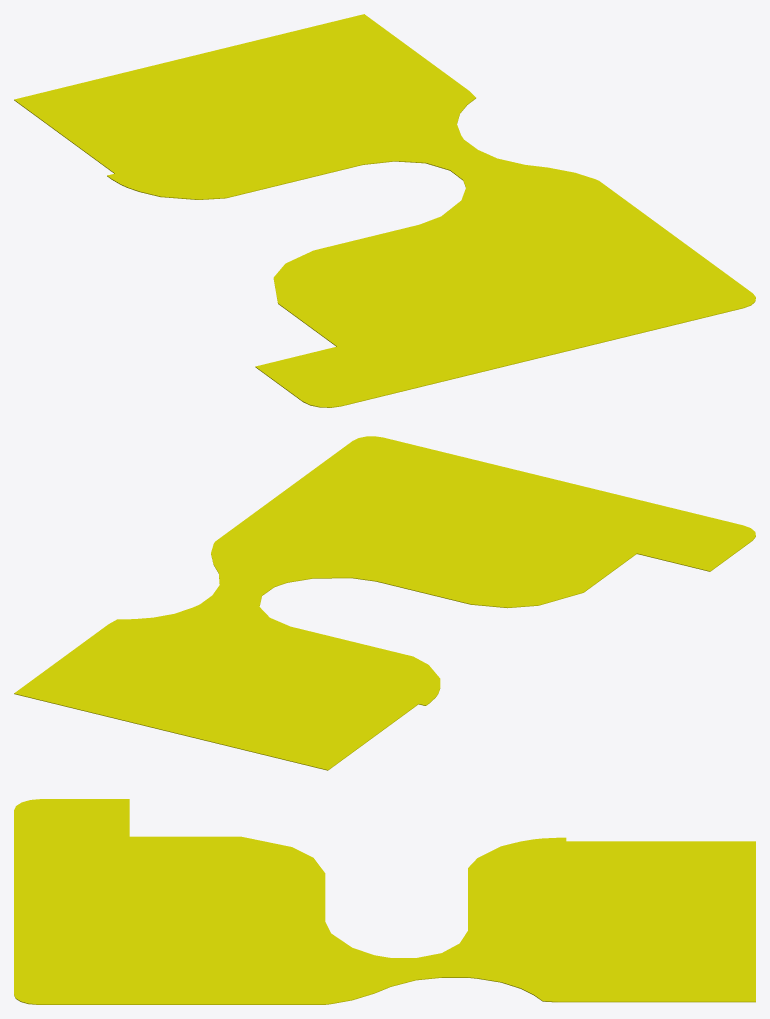
Rendered from sm_hana_building_8f_ceiling.glb.
The picture shows the model from 3 angles, top to bottom: view 1: azimuth 30°, elevation 25°; view 2: azimuth 150°, elevation 25°; view 3: azimuth 270°, elevation 25°; orthographic projection. The views are drawn at different scales.
Visible parts, largest first — view 1: sm_hana_building_8f_ceiling; view 2: sm_hana_building_8f_ceiling; view 3: sm_hana_building_8f_ceiling.
Part boxes in pixels (x1,y1,x2,y2): sm_hana_building_8f_ceiling: [14, 14, 755, 407]; sm_hana_building_8f_ceiling: [14, 436, 755, 770]; sm_hana_building_8f_ceiling: [14, 799, 755, 1004].
Bounding box in the file's own units: 62.94 × 0.0998 × 96.22.
1 material, 1 textured.
